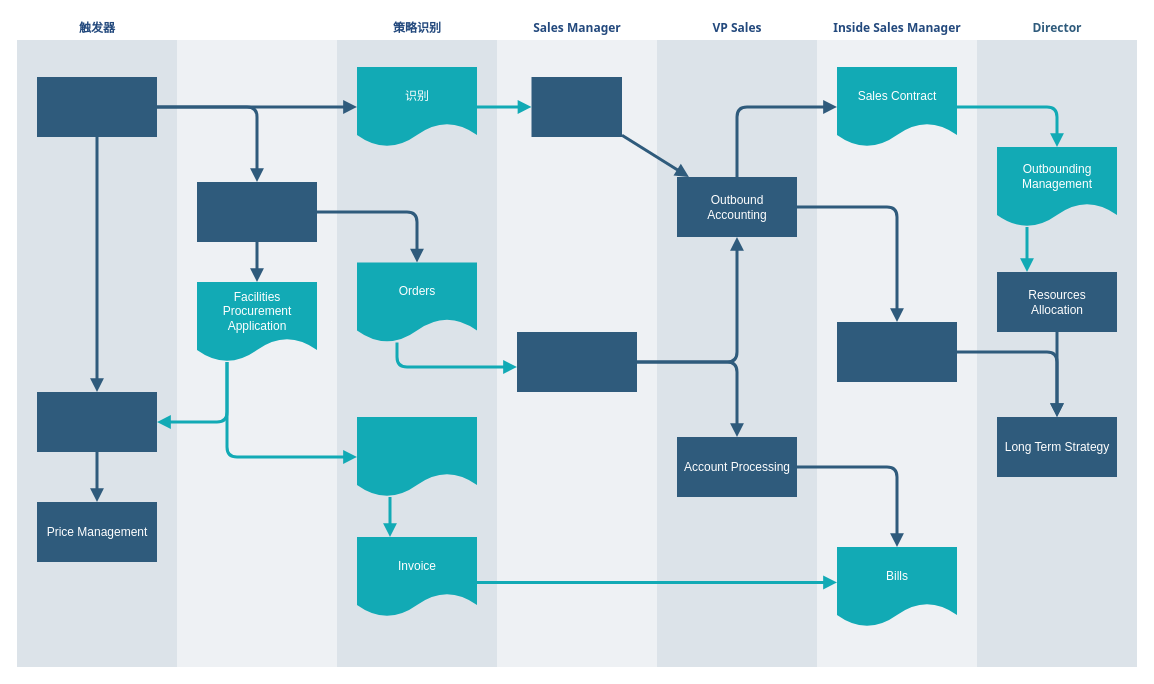
This 1154x684 diagram has some shape labels left out. Here are the shapes that lost their labels. From the top down, the centre of each, then its label:
(x=96, y=106): 定时器
(x=576, y=106): Inventory Control
(x=256, y=212): Material Requirements Planning Operation
(x=576, y=362): Product Delivery
(x=896, y=352): Cost Allocation
(x=416, y=456): Product Delivery Notification
